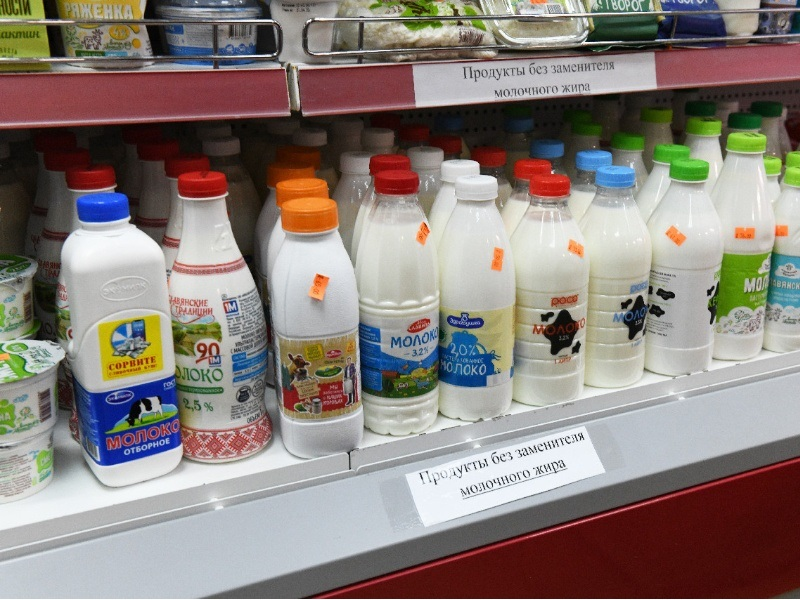milk: (61, 190, 185, 502), (169, 174, 286, 473), (267, 197, 372, 464), (359, 168, 452, 445), (437, 176, 519, 427), (515, 171, 590, 414), (648, 155, 723, 376), (582, 164, 654, 393)
